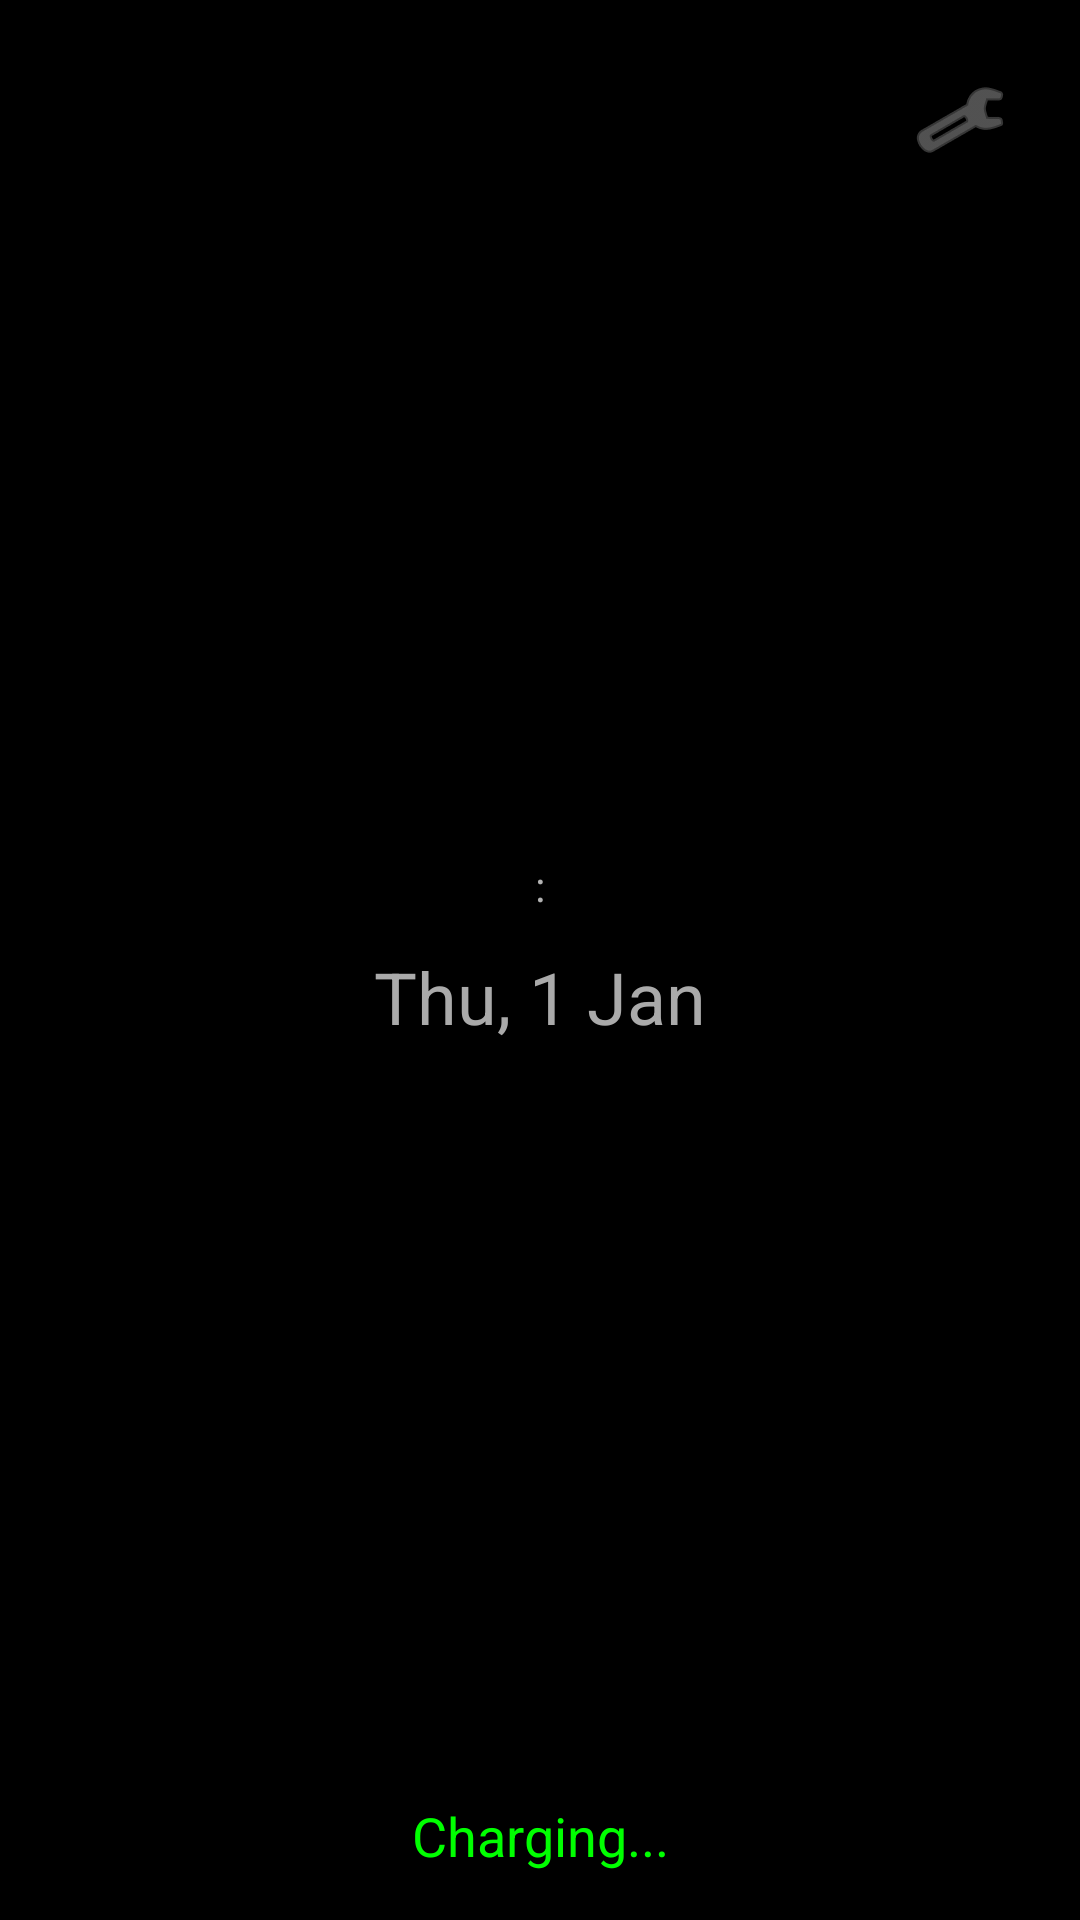

Named icons in this screenshot (1080px×1920px) and their centers, (x,y):
Settings: (960,120)
